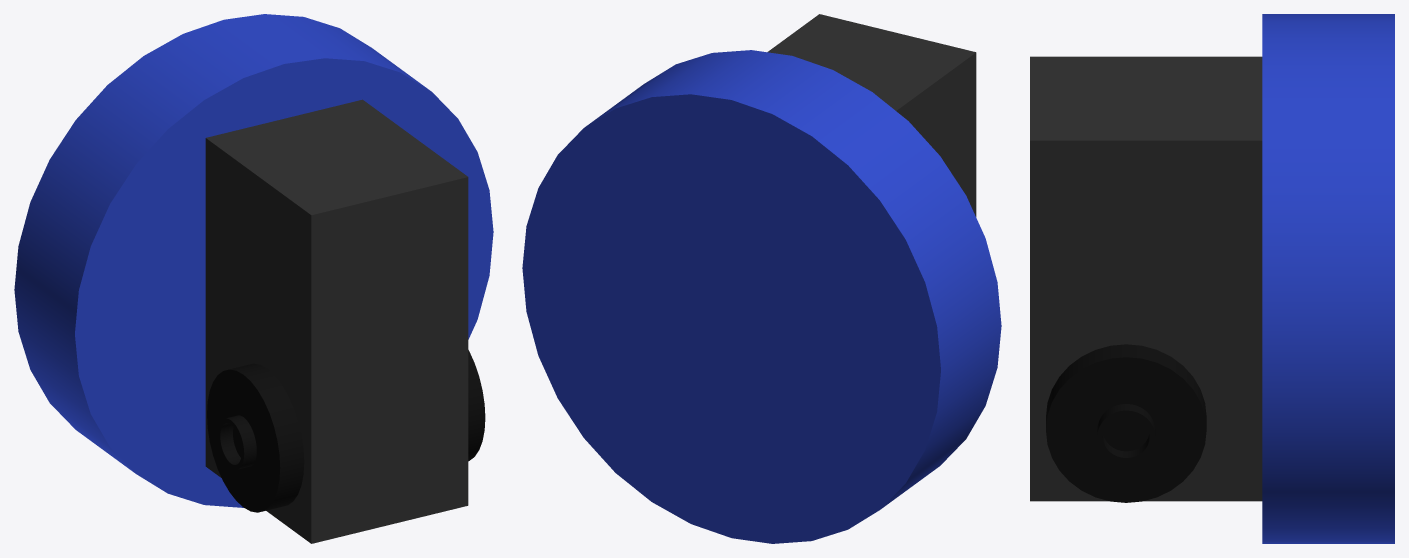
Rendered from generic_s2.obj.
3 renders of one model, left to right at view 1: azimuth 30°, elevation 25°; view 2: azimuth 150°, elevation 25°; view 3: azimuth 270°, elevation 25°, orthographic. The views are drawn at different scales.
Visible parts, largest first — view 1: basic_servo.001, Cylinder, connector.001; view 2: Cylinder, basic_servo.001; view 3: basic_servo.001, Cylinder, connector.001.
Boxes of the visible parts, x1,y1,x2,y2 form: basic_servo.001: (205,99,468,543); Cylinder: (14,14,493,507); connector.001: (207,350,485,512); Cylinder: (522,50,1001,543); basic_servo.001: (767,14,976,216); basic_servo.001: (1030,56,1262,501); Cylinder: (1262,14,1394,543); connector.001: (1046,344,1206,502).
Size of the model in its own units: 2 by 2 by 1.38.
